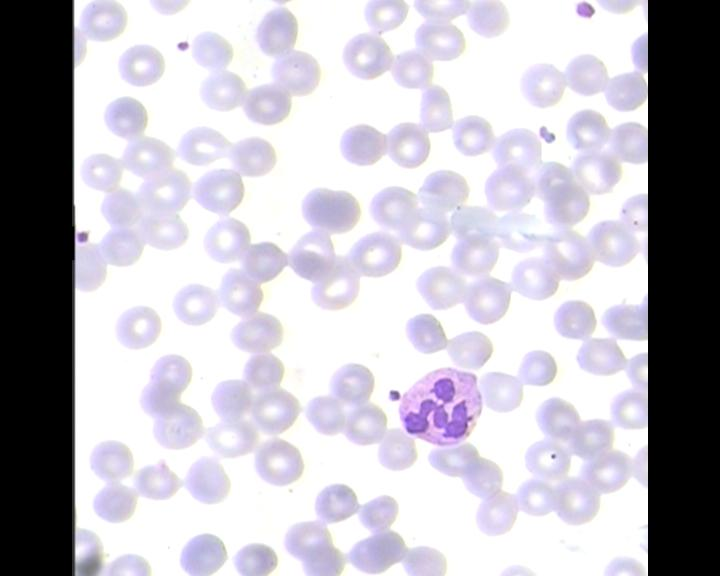neut: (394, 362, 484, 449)
